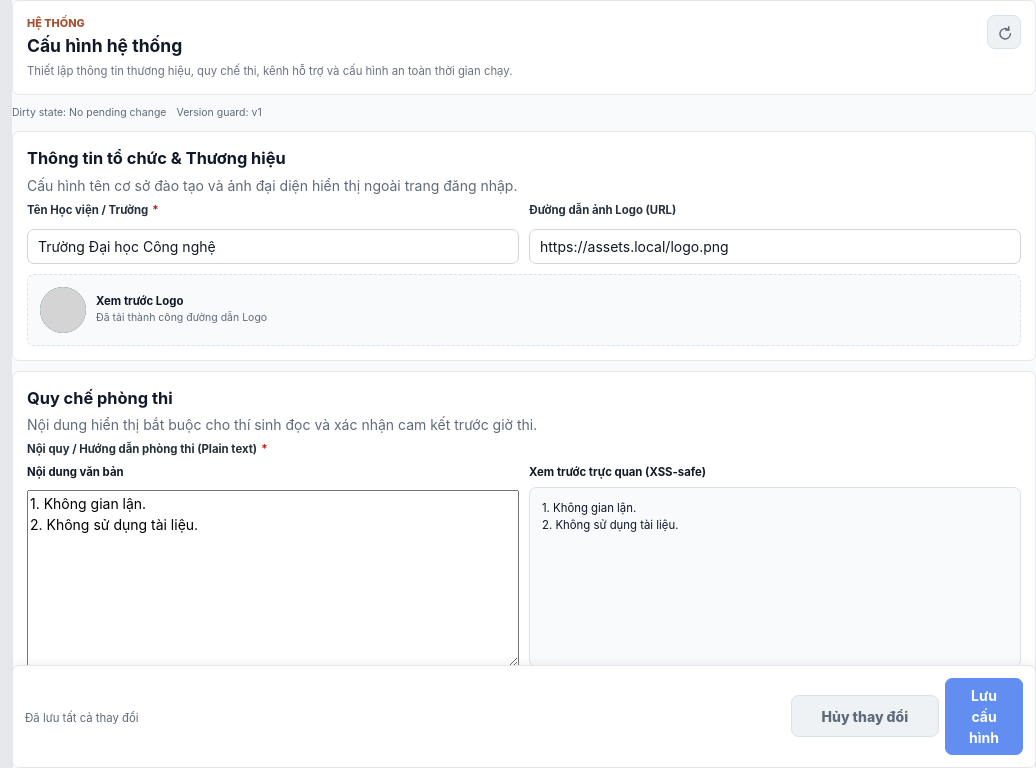
SettingsPage UI and validations › Admin settings API failure does not show false success
Replace the text in the field labelled "Tên Học viện / Trường *" with "Đại học Quốc gia" at {"x": 273, "y": 246}, box [27,229,519,264]
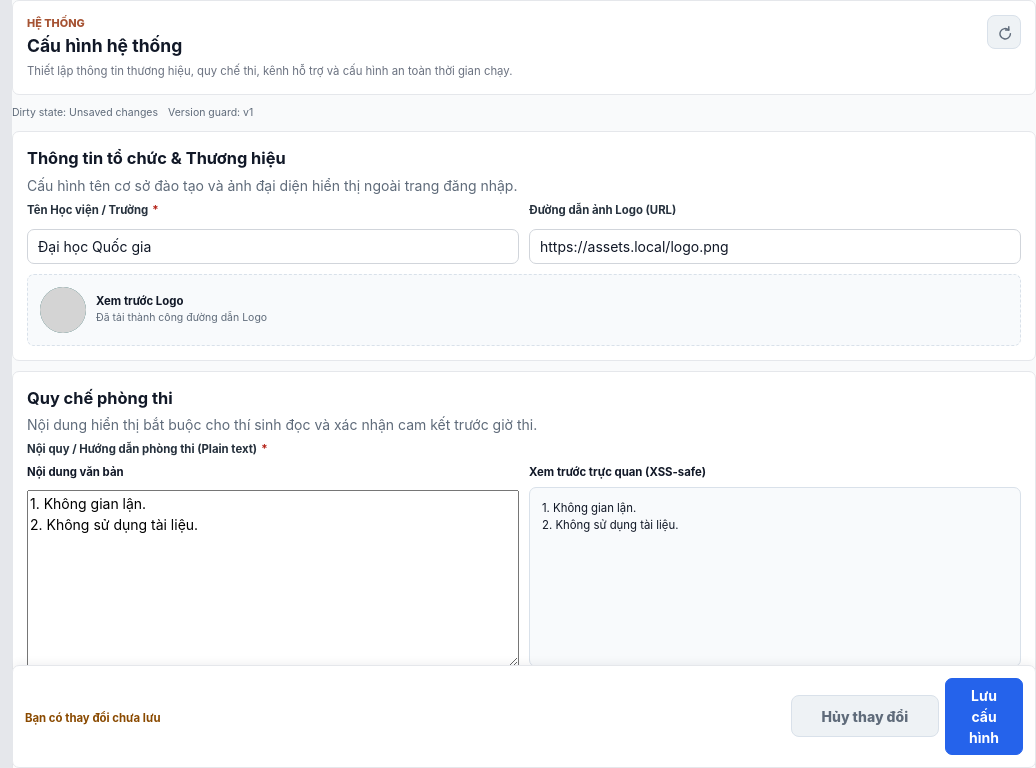
Click the button "Lưu cấu hình" at {"x": 984, "y": 716}, box [945,678,1023,755]
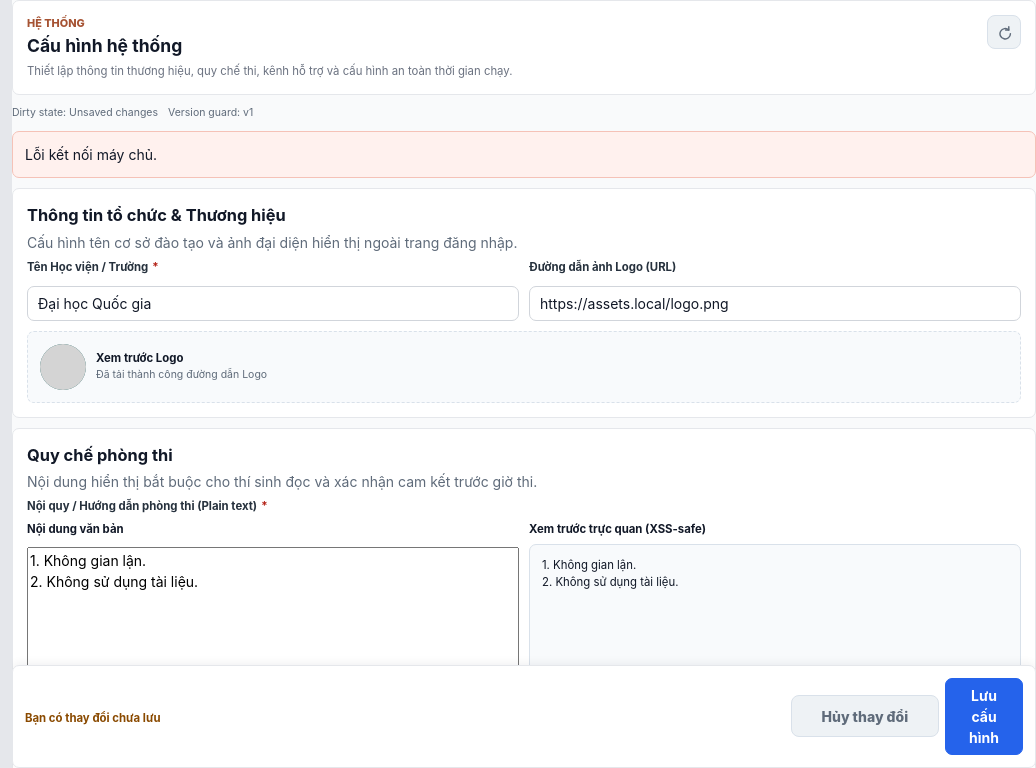
Expected: the text "Lỗi kết nối máy chủ." is shown, [12,131,1035,178]
